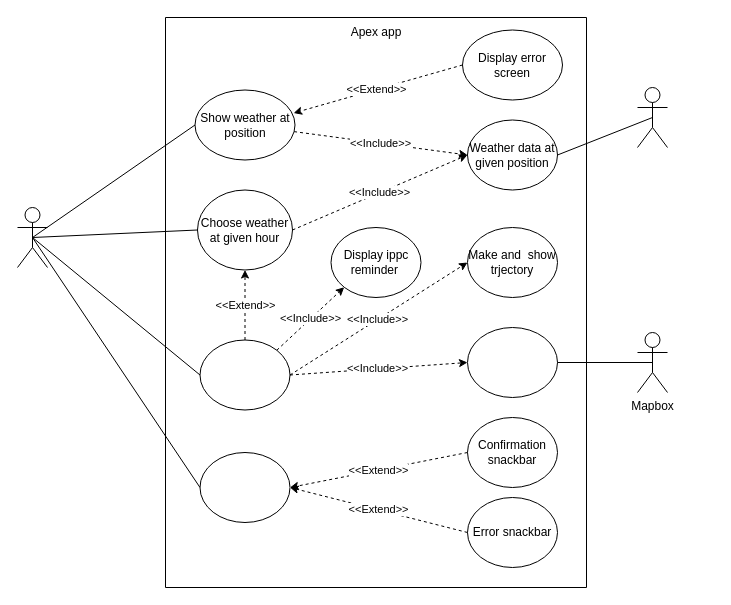
Some shapes in this 731 by 605 pixel diagram are drawn without their labels. The shapes that lost their labels are listed below. From the top down, each one's centre as x and y in pixels, then its label:
At (x=652, y=117): "Meteorological institute".
At (x=32, y=237): "User".
At (x=244, y=374): "Make trajectory at position".
At (x=512, y=362): "Map data".
At (x=244, y=487): "Save weather data at given hour".
